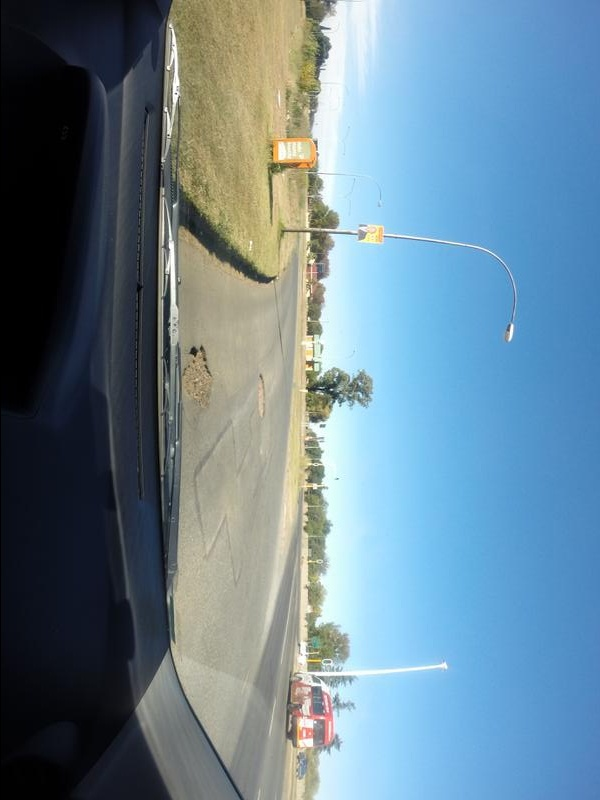pothole: (183, 333, 221, 433), (250, 369, 269, 422)
